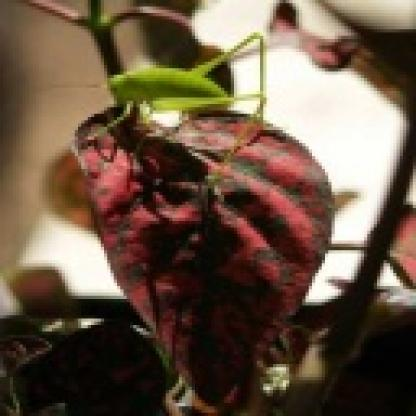grasshopper: (95, 31, 285, 127)
